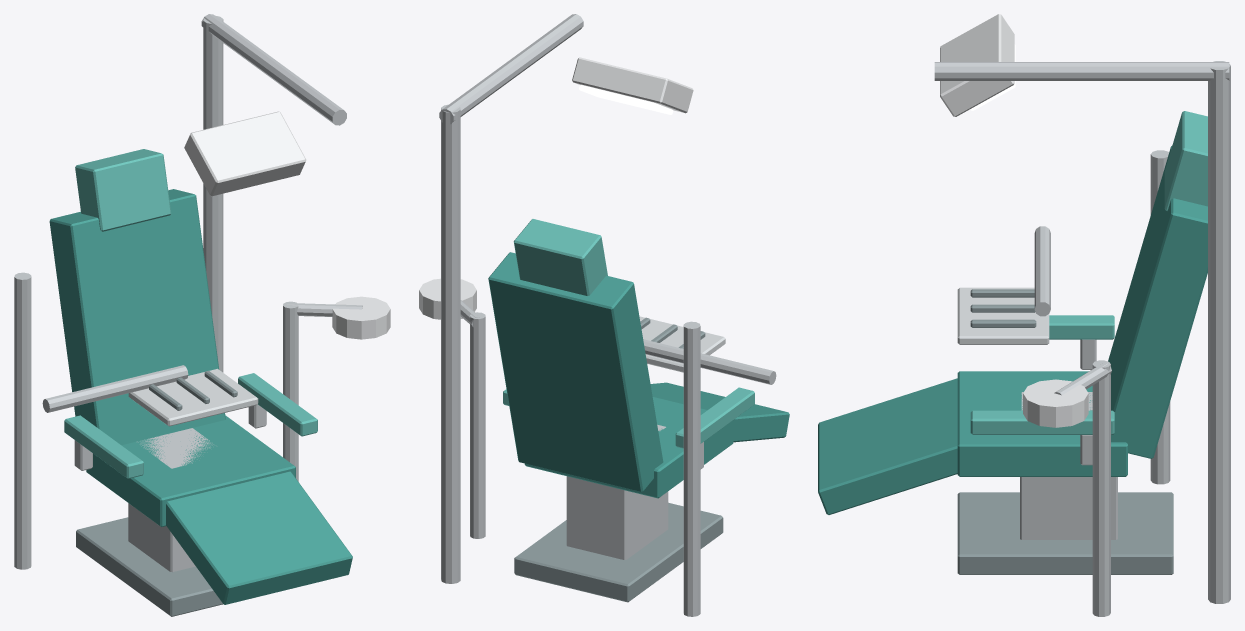
The model's file is dental_chair.glb.
3 renders of one model, left to right at view 1: azimuth 30°, elevation 25°; view 2: azimuth 150°, elevation 25°; view 3: azimuth 270°, elevation 25°, orthographic. The views are drawn at different scales.
Parts seen in each view (by area): view 1: Backrest, LegRest, SeatPan, LightHead, Headrest, Base, TrayPost, LightPost, Column, Tray, LightArm, TrayArm (+5 smaller); view 2: Backrest, LightPost, Base, Column, Headrest, TrayPost, SpittoonArm, SeatPan, LightHead, LightArm, LegRest, TrayArm (+4 smaller); view 3: Backrest, LegRest, Base, LightPost, SeatPan, LightArm, Column, SpittoonArm, LightHead, Tray, Headrest, Spittoon (+8 smaller).
Boxes of the visible parts, x1,y1,x2,y2 form: Backrest: [49, 189, 225, 445]; LegRest: [166, 471, 352, 604]; SeatPan: [86, 415, 295, 526]; LightHead: [184, 111, 306, 196]; Headrest: [75, 149, 171, 231]; Base: [76, 517, 222, 616]; TrayPost: [14, 272, 31, 569]; LightPost: [203, 15, 223, 372]; Column: [128, 428, 213, 572]; Tray: [128, 368, 258, 426]; LightArm: [201, 14, 346, 125]; TrayArm: [42, 365, 188, 412]; Backrest: [488, 252, 663, 491]; LightPost: [441, 104, 460, 583]; Base: [514, 502, 723, 602]; Column: [566, 424, 668, 559]; Headrest: [513, 219, 607, 295]; TrayPost: [683, 321, 700, 616]; SpittoonArm: [470, 312, 485, 538]; SeatPan: [524, 397, 733, 498]; LightHead: [572, 57, 693, 113]; LightArm: [439, 14, 583, 124]; LegRest: [650, 382, 789, 442]; TrayArm: [643, 339, 776, 384]; Backrest: [1108, 146, 1207, 458]; LegRest: [818, 378, 957, 514]; Base: [957, 492, 1173, 574]; LightPost: [1208, 61, 1230, 603]; SeatPan: [957, 371, 1127, 476]; LightArm: [934, 62, 1229, 80]; Column: [1020, 392, 1117, 539]; SpittoonArm: [1092, 360, 1110, 616]; LightHead: [940, 14, 1014, 116]; Tray: [957, 287, 1049, 344]; Headrest: [1164, 111, 1207, 210]; Spittoon: [1023, 379, 1088, 427].
Size of the model in its own units: 1.38 by 1.81 by 1.26.
